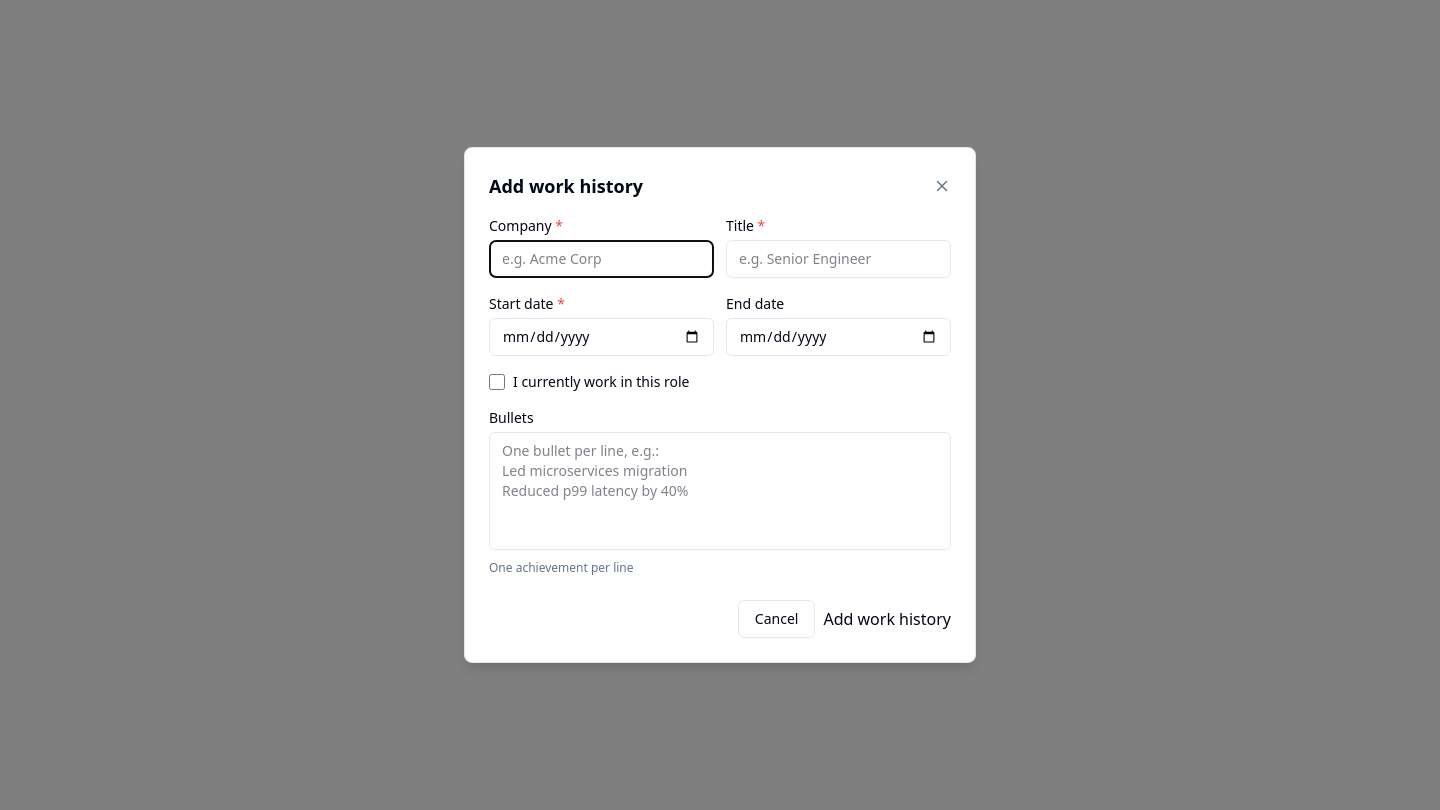
Test: WorkHistoryDialog — is_current › checking the current-role box disables and clears the end date
Type "2024-05-01" into the date field labelled "End date". click: coordinates (838, 337)
box: [726,318,951,356]
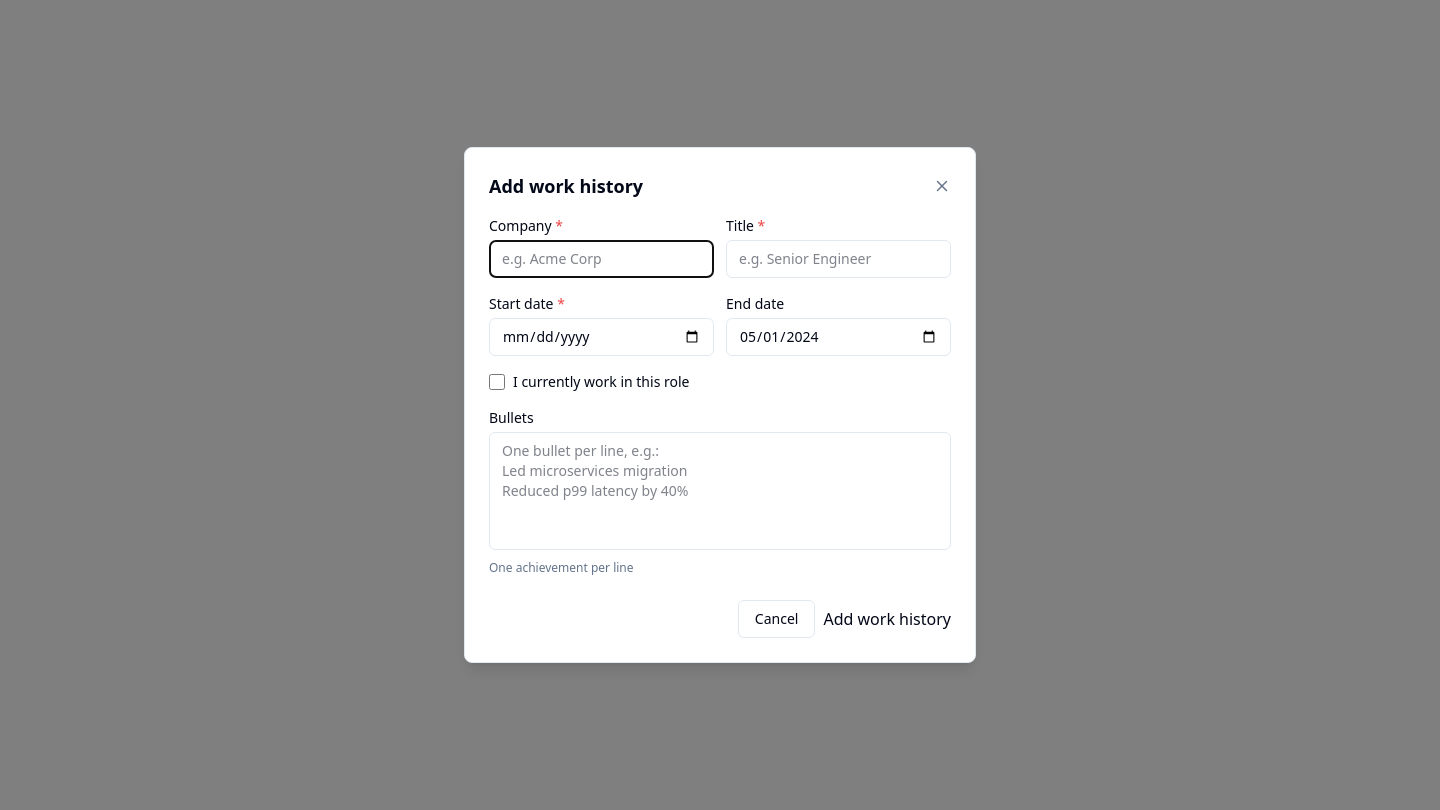
Click the checkbox labelled "I currently work in this role". click: coordinates (497, 382)
box: [489,374,505,390]
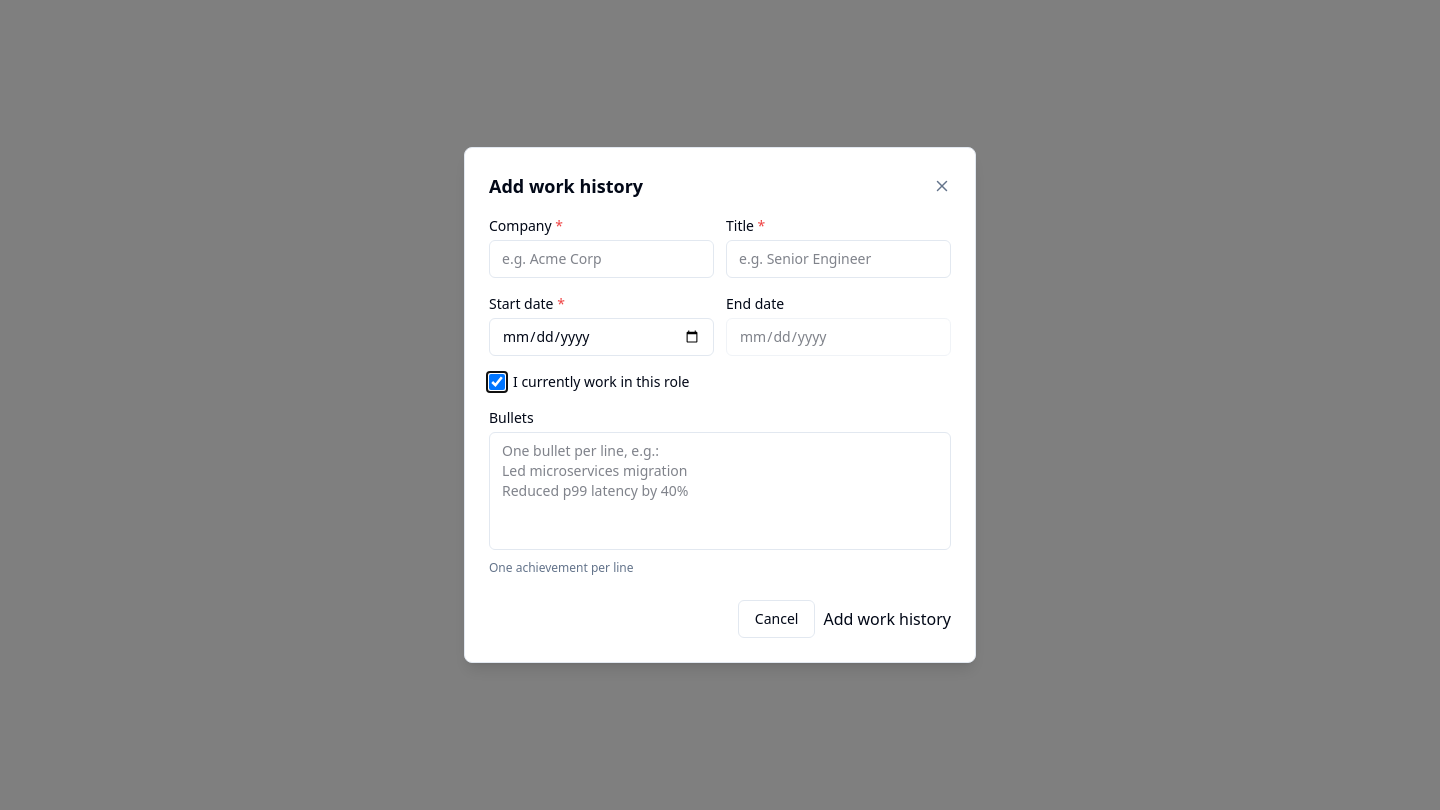
Expected: the date field labelled "End date" is disabled, [726,318,951,356]
Expected: the date field labelled "End date" is empty, [726,318,951,356]
